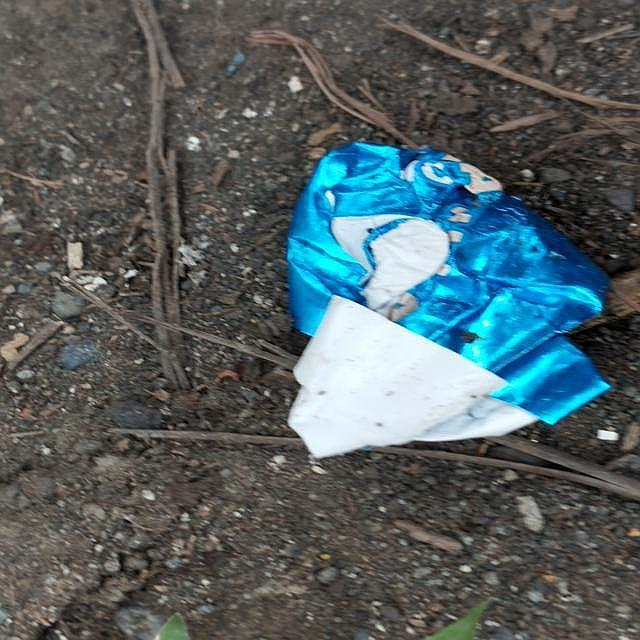Biodegradable: (289, 140, 606, 448)
